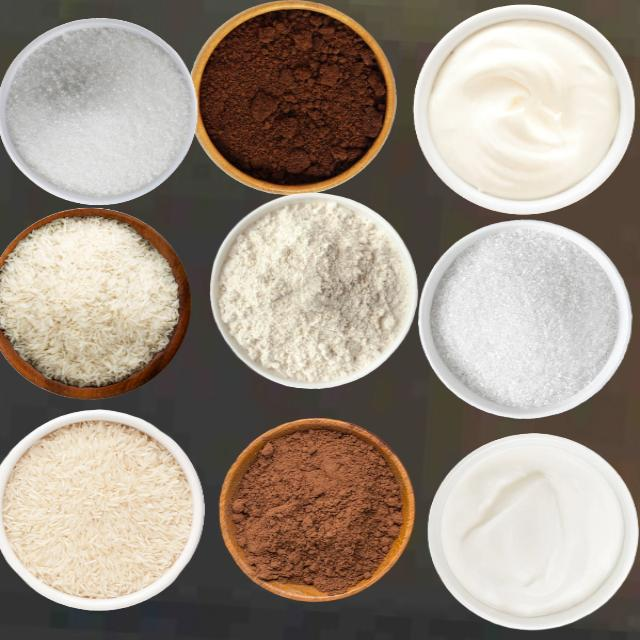Cocoa: (219, 417, 413, 601)
Coffee: (198, 4, 388, 185)
Flour: (217, 199, 407, 383)
Sugar: (2, 19, 196, 202), (430, 226, 619, 409)
